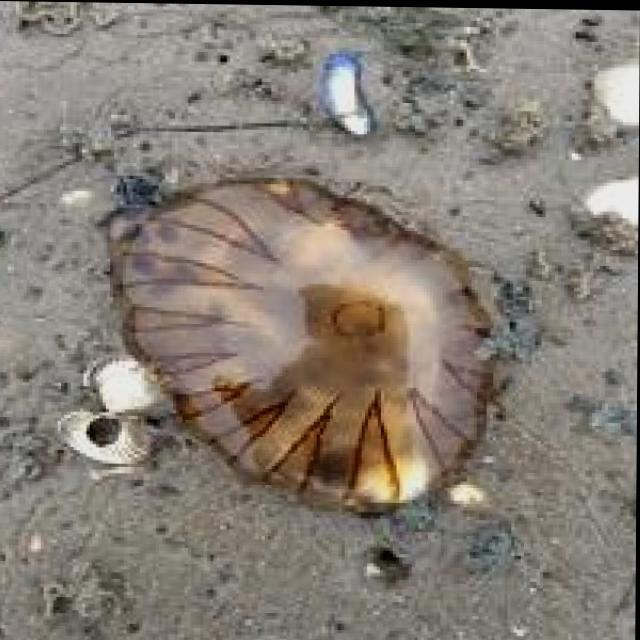Box-jellyfish: (93, 164, 498, 518)
